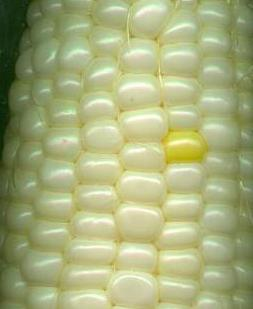corn: (5, 0, 252, 308)
